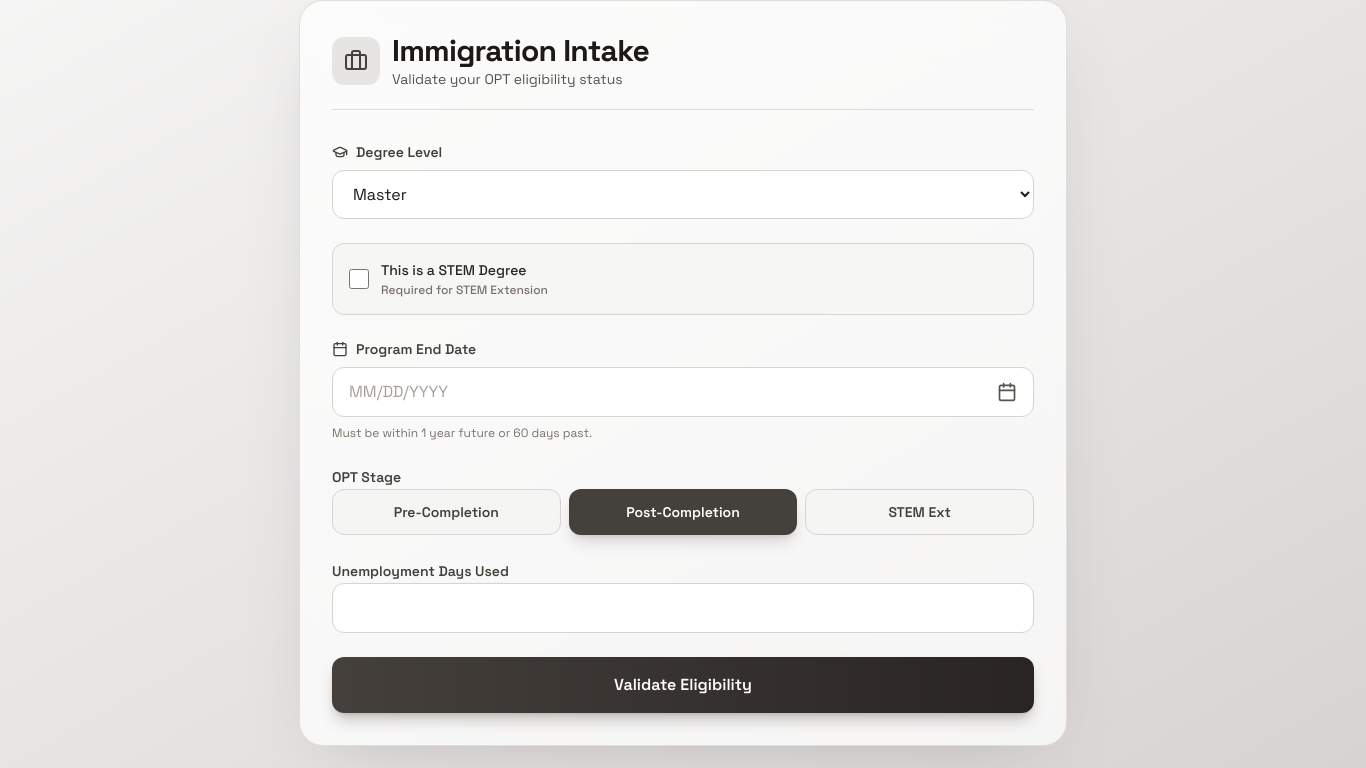
Test: IntakeForm › renders validation errors from API
Click the button "Validate Eligibility": (683, 685) [332,657,1034,713]
(page scrolled)
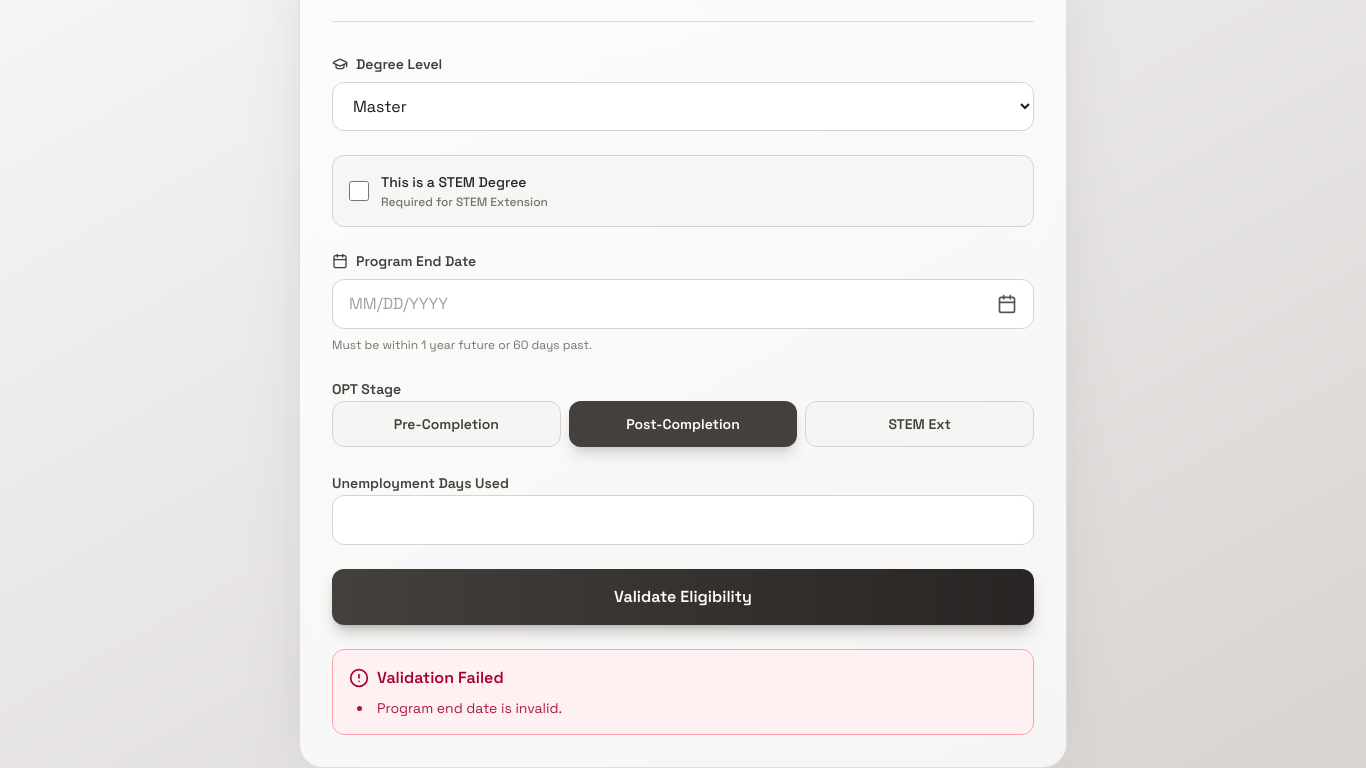
Check: the text "Validation Failed" is shown, box [349,667,504,688]
Check: the list item "Program end date is invalid." is shown, box [377,699,562,717]
